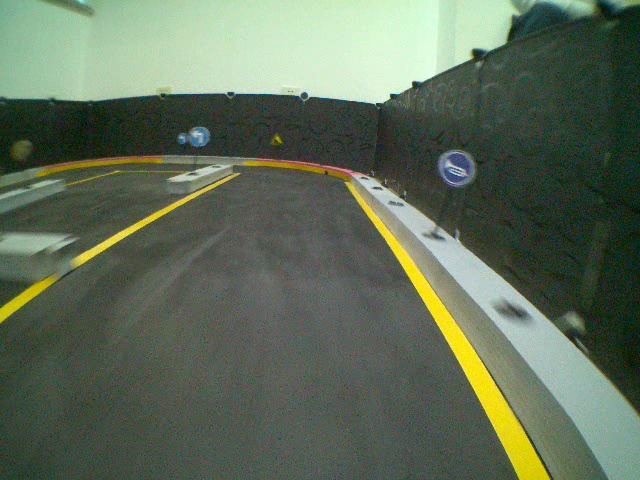fast: (269, 134, 283, 147)
horn: (436, 150, 478, 189)
turn: (189, 125, 209, 148)
